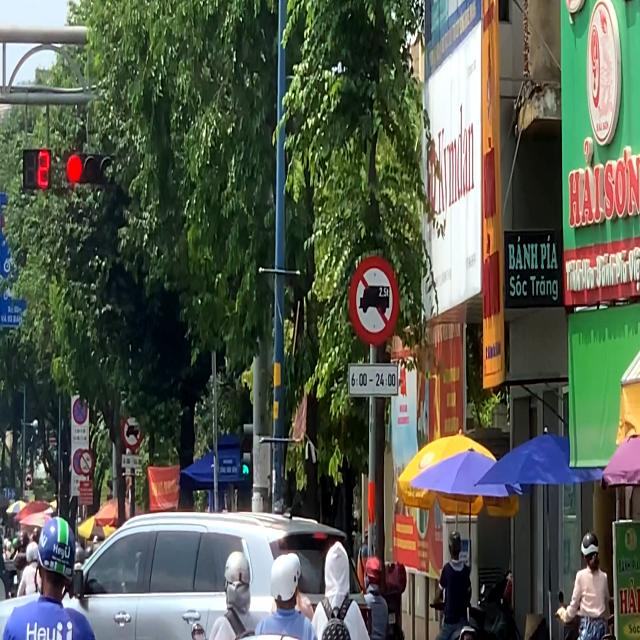P.106b: (351, 255, 400, 343)
